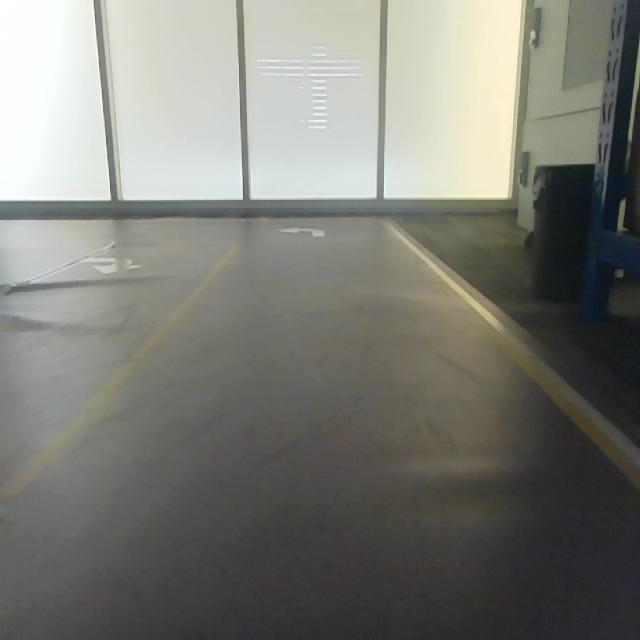left_lane: (0, 247, 235, 528)
right_lane: (387, 221, 640, 490)
